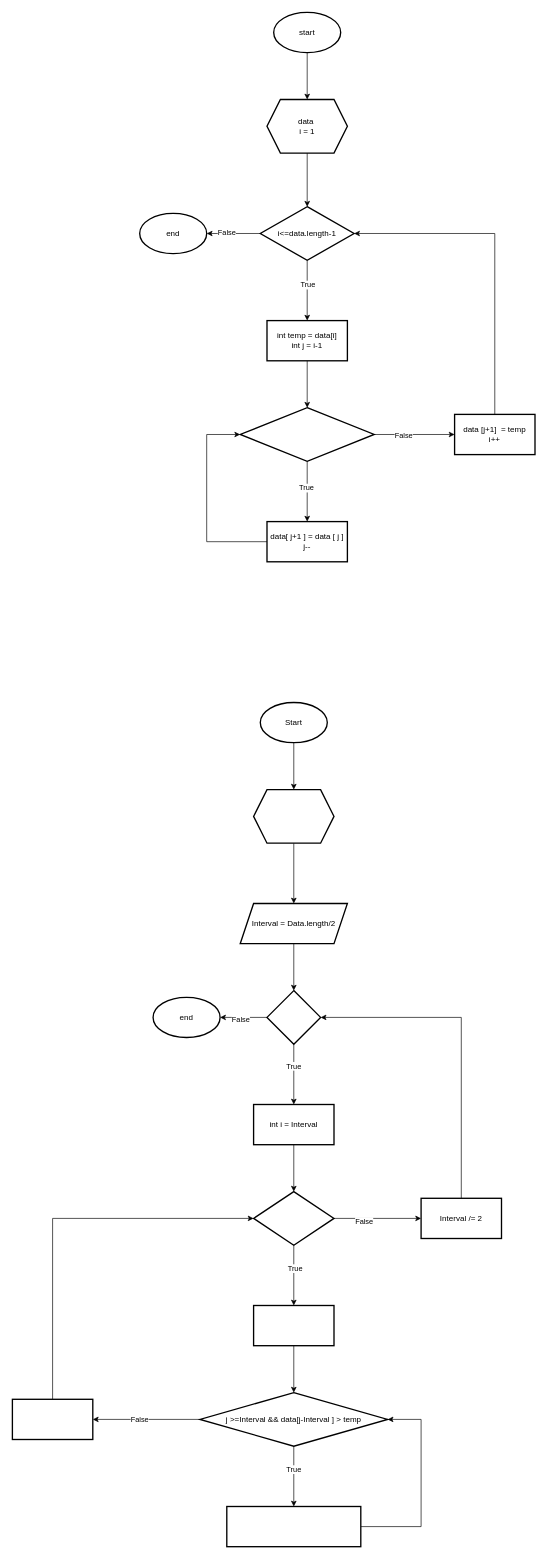
Some shapes in this 547 by 1558 pixel diagram are drawn without their labels. The shapes that lost their labels are listed below. From the top down, each one's centre as x and y in pixels, then its label:
At pixel 307 434: "j >=0 && data [ j ] > temp".
At pixel 293 816: "Data int Interval".
At pixel 293 1017: "Interval > 0".
At pixel 293 1218: "i<Data.length".
At pixel 293 1325: "int temp = data [ i ] int j = i".
At pixel 52 1419: "Data[ j ] = temp i += 1".
At pixel 293 1526: "data[ j ] = data [j-Interval] j -= Interval".
